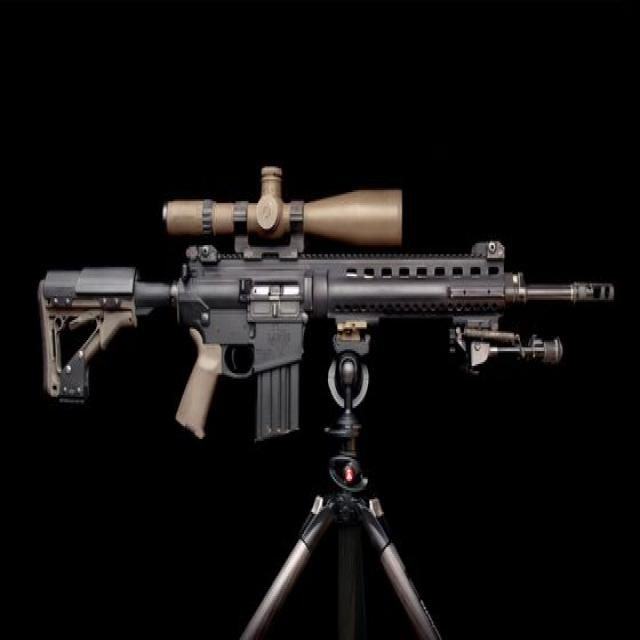firearm: (38, 163, 616, 443)
